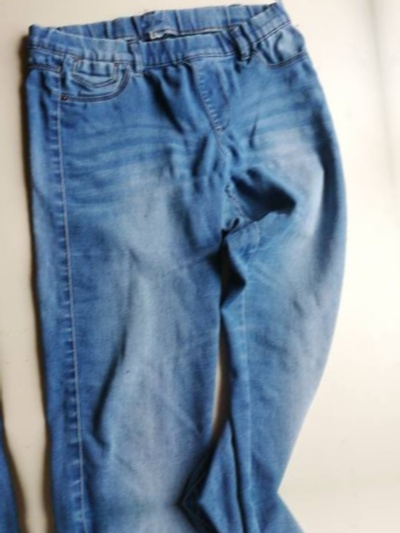Pants: (0, 0, 394, 517), (53, 481, 400, 533), (0, 23, 19, 533), (0, 525, 79, 533)
